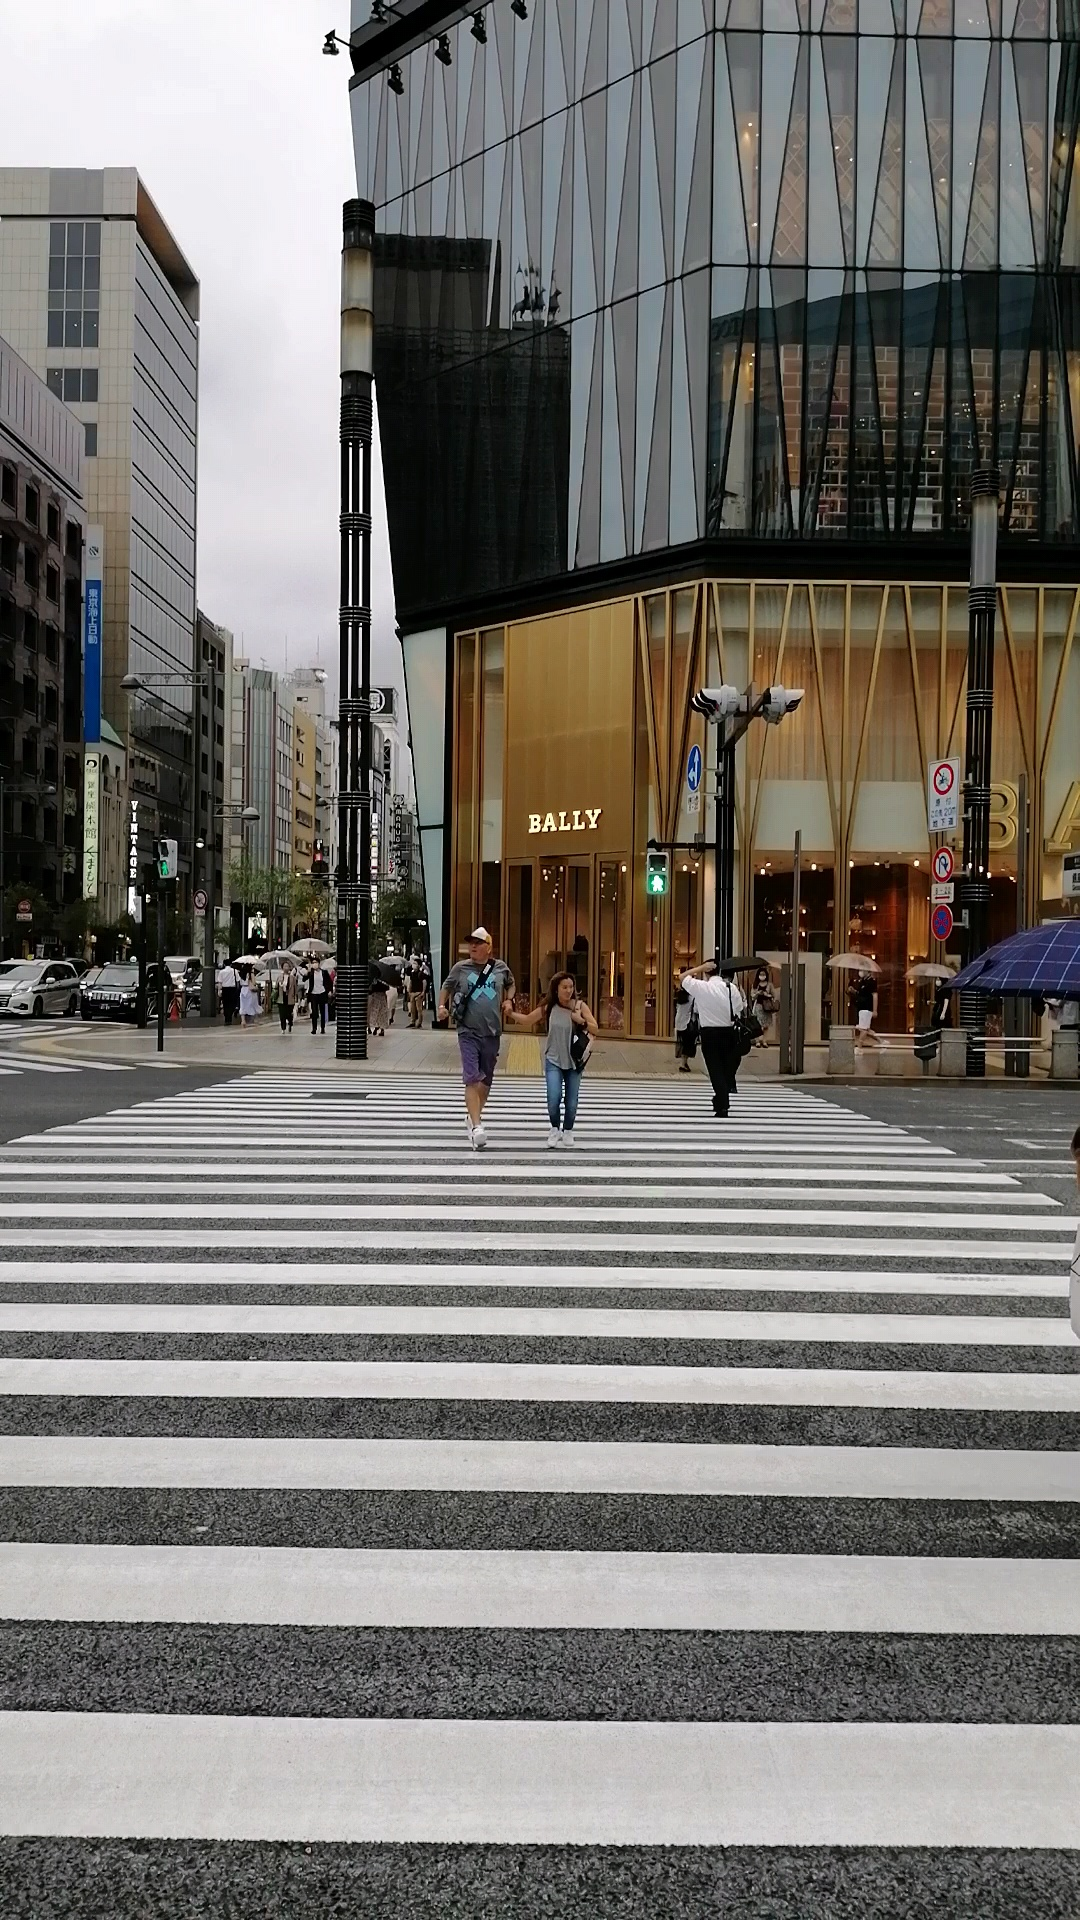green: (644, 851, 669, 895)
